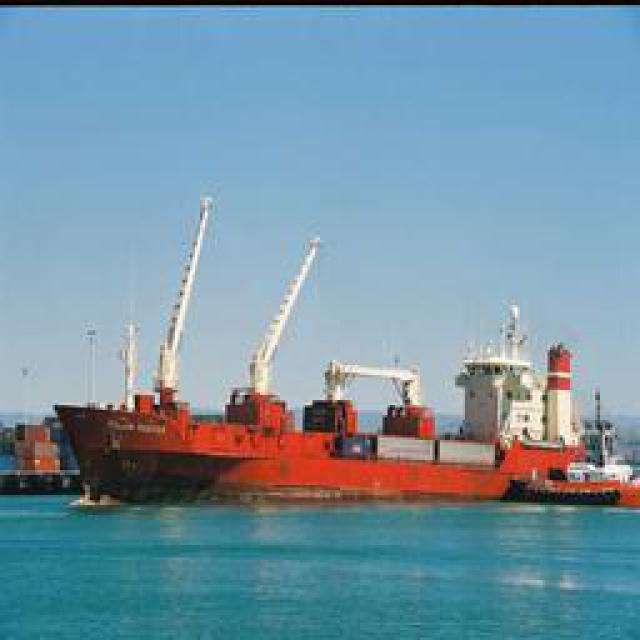Ship: (52, 216, 625, 511)
